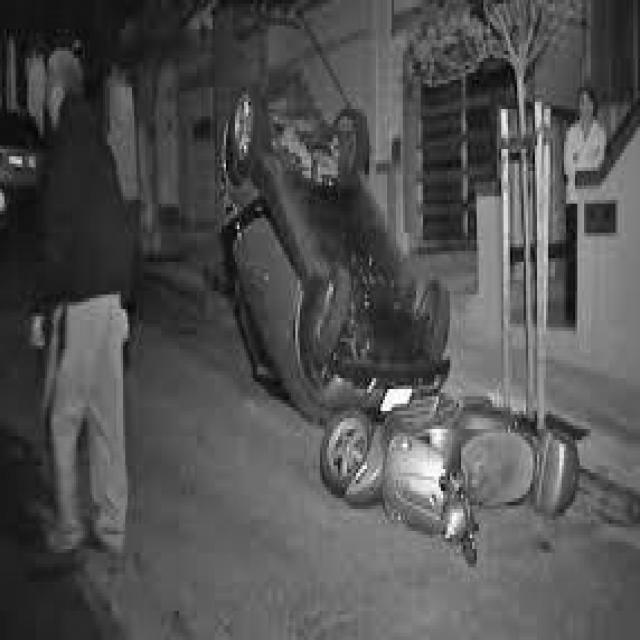severe: (210, 71, 454, 427)
